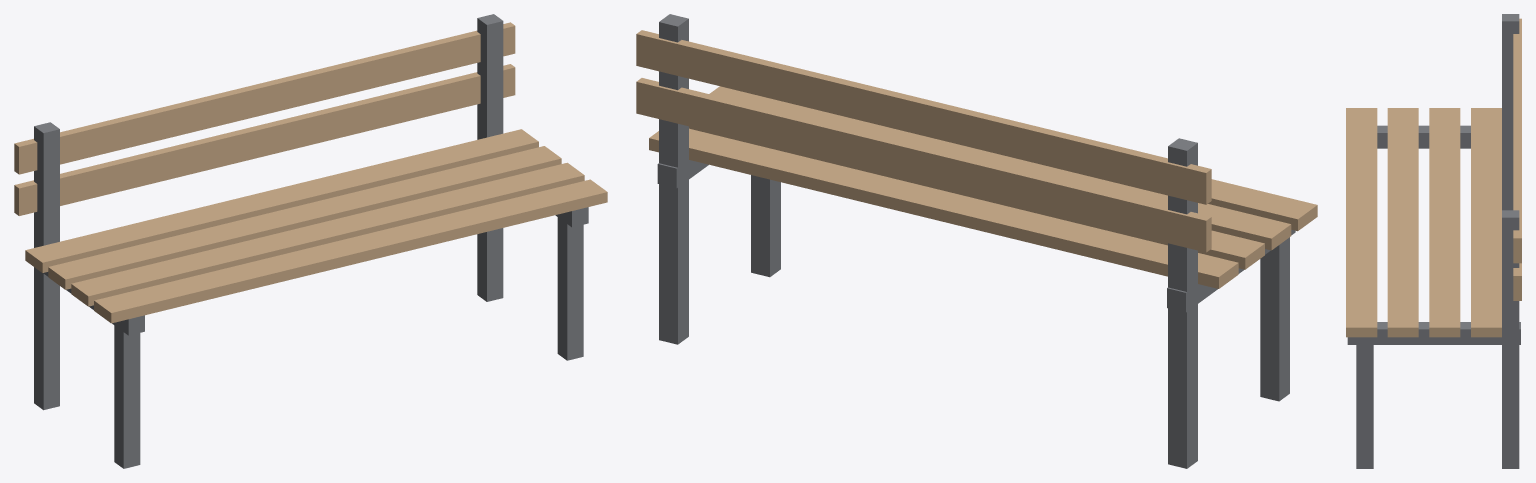
File: garden-bench.glb
3 renders of one model, left to right at view 1: azimuth 30°, elevation 25°; view 2: azimuth 150°, elevation 25°; view 3: azimuth 270°, elevation 25°, orthographic. The views are drawn at different scales.
Visible parts, largest first — view 1: Seat (×4), Back (×2), Leg (×4); view 2: Back (×2), Seat (×4), Leg (×4), Rail; view 3: Seat (×4), Leg (×3), Rail (×2), Back (×2).
Part boxes in pixels (x1,y1,x2,y2): Seat (×4): (25,129,607,323); Back (×2): (14,22,515,215); Leg (×4): (34,14,583,468); Back (×2): (636,30,1211,252); Seat (×4): (649,86,1317,288); Leg (×4): (659,14,1289,468); Rail: (1167,230,1295,312); Seat (×4): (1346,108,1501,337); Leg (×3): (1356,14,1519,468); Rail (×2): (1347,125,1520,344); Back (×2): (1513,18,1521,300).
Bounding box in the file's own units: 1.5 × 0.8 × 0.5075.
